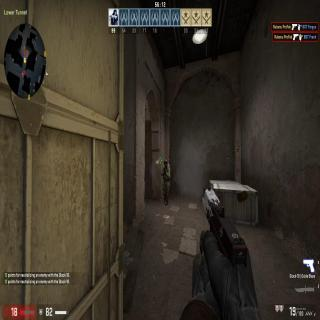CT-Body: (161, 159, 171, 200)
CT-Head: (162, 159, 166, 166)
